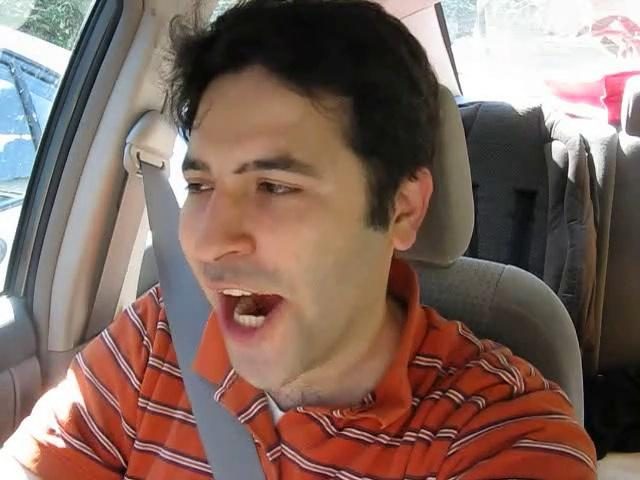close_eyeL: (174, 166, 229, 206)
close_eyeR: (238, 162, 325, 214)
yawn: (187, 270, 317, 355)
